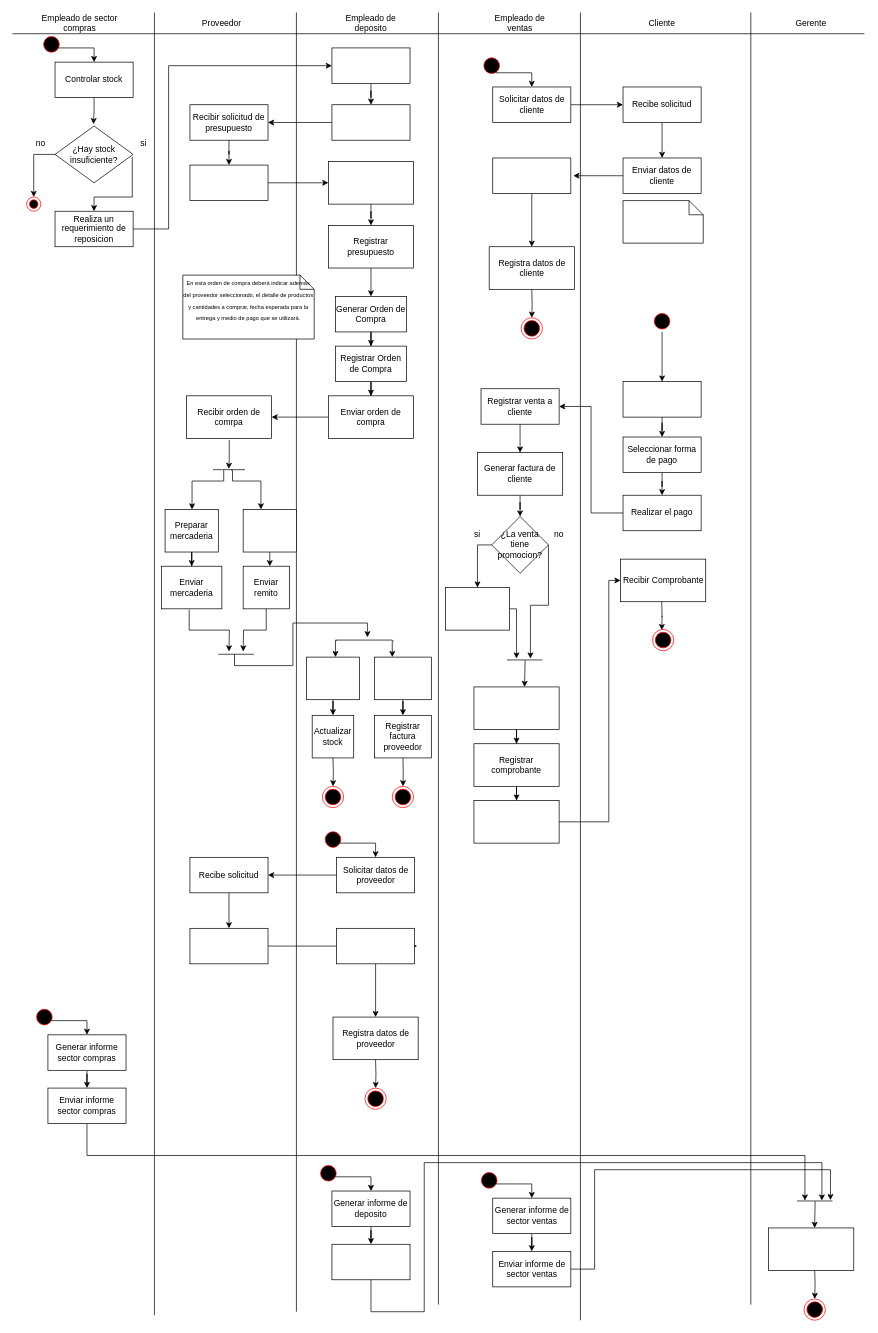
This 878x1333 diagram has some shape labels left out. Each missing label, with the centre of its shape:
"Adquirir productos" belongs at point (661, 399).
"Aplicar promoción en venta" belongs at point (477, 608).
"datos filiatorios, de contacto y laborales" belongs at point (662, 221).
"Enviar comprobante" belongs at point (516, 821).
"Enviar datos de proveedor" belongs at point (228, 946).
"Enviar informe de deposito" belongs at point (370, 1262).
"Enviar presupuesto" belongs at point (228, 182).
"Generar comprobante" belongs at point (516, 708).
"Generar factura de proveedor" belongs at point (269, 530).
"Recibe datos de cliente" belongs at point (531, 175).
"Recibe datos de proveedor" belongs at point (375, 946).
"Recibir factura proveedor" belongs at point (402, 678).
"Recibir informe" belongs at point (811, 1249).
"Recibir mercadería" belongs at point (333, 678).
"Recibir presupuesto" belongs at point (371, 182).
"Registrar el requerimiento de reposicion" belongs at point (370, 65).
"Solicitar un presupuesto" belongs at point (370, 122).
